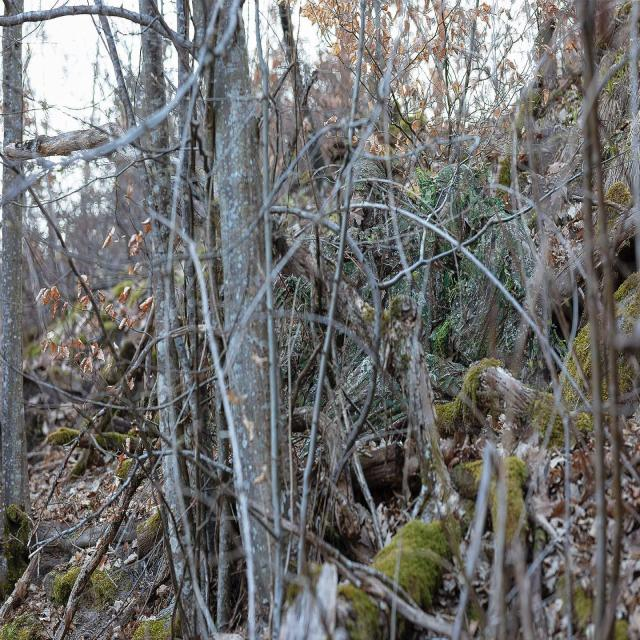Camouflage: (332, 359, 615, 624)
